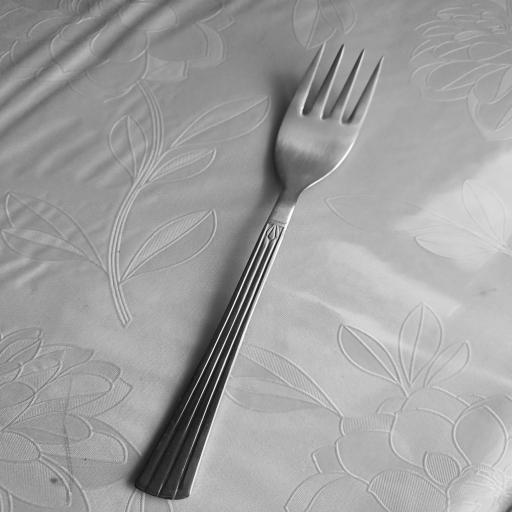fork: (126, 39, 389, 499)
